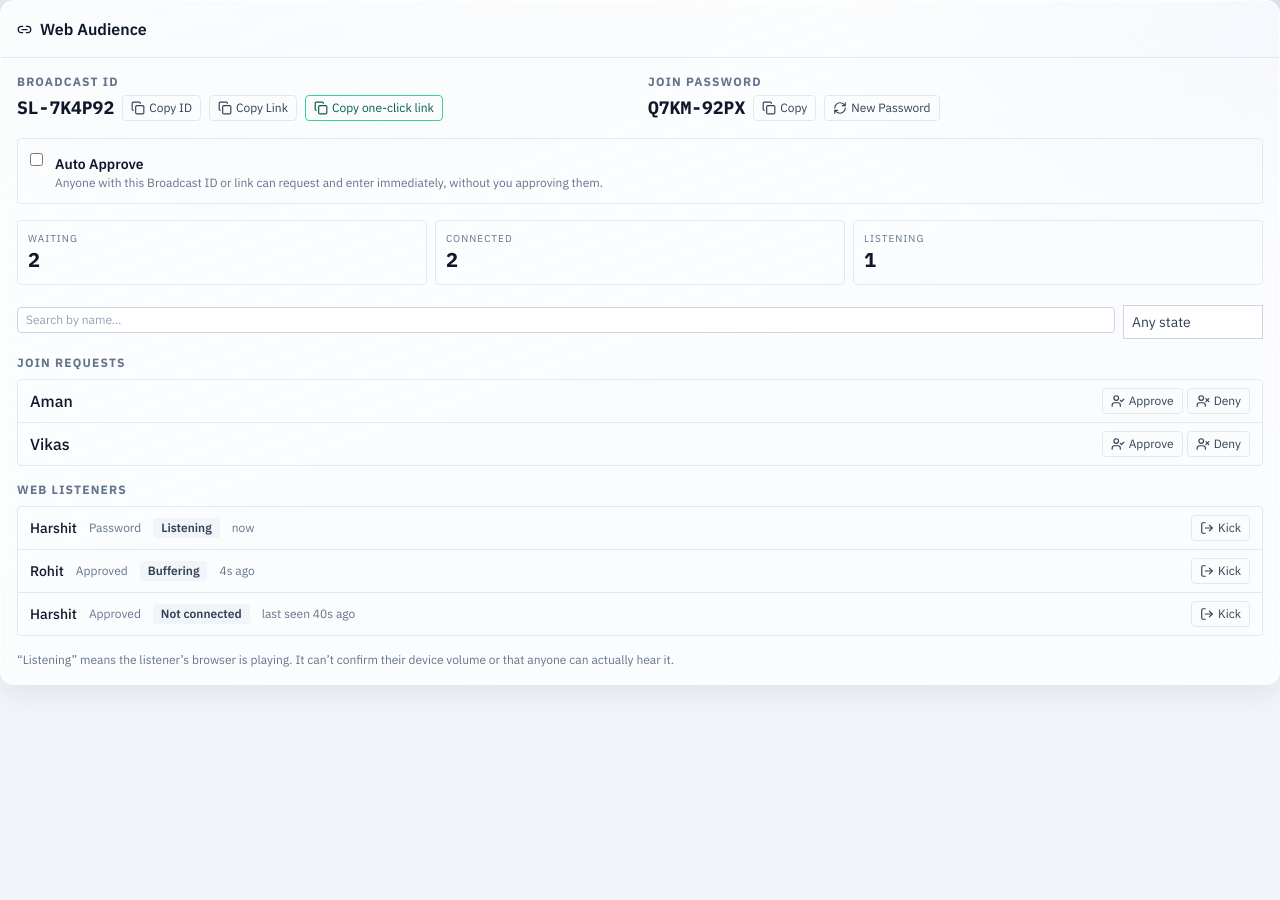
Test: a failed action is reported rather than silently swallowed
Click the button with test id "web-approve-11" at (1142, 401), box [1102, 388, 1183, 414]
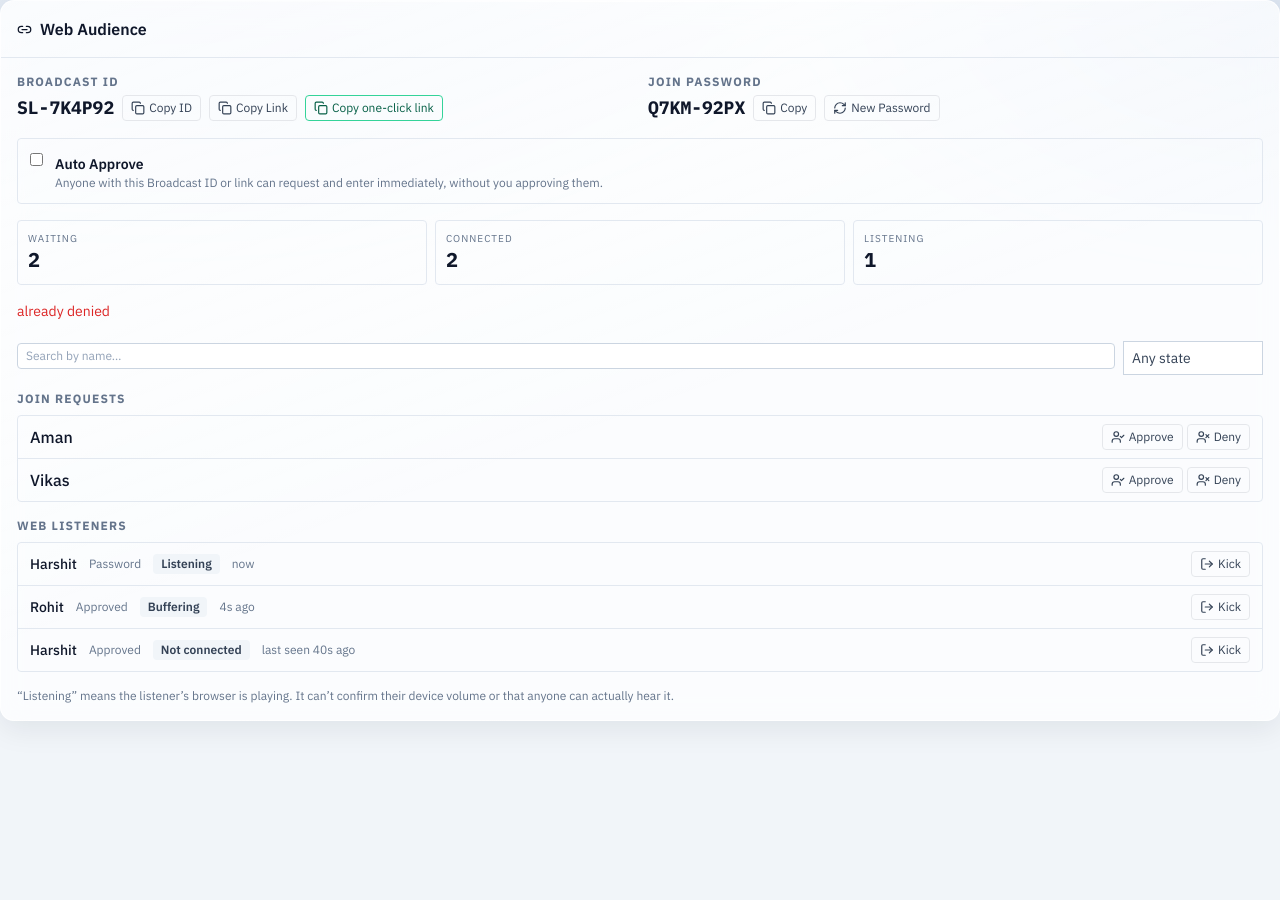
Expected: the text with test id "web-audience-error" reads "already denied", [17, 302, 110, 320]
